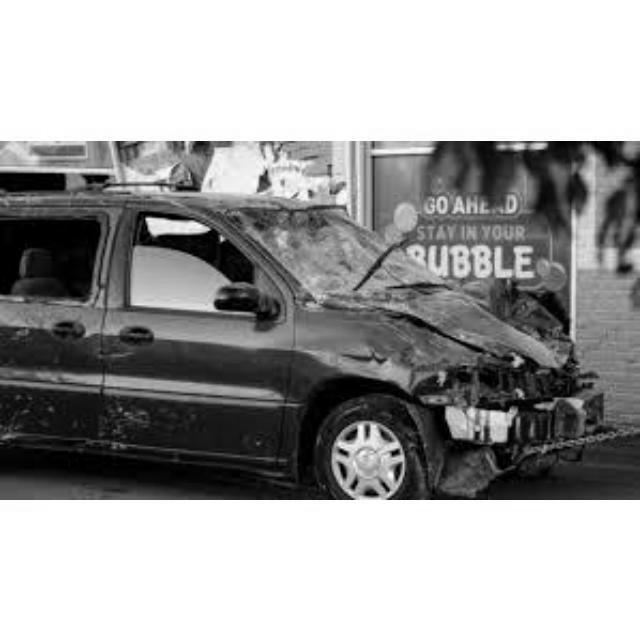Front-windscreen-damage: (259, 190, 413, 301)
bonnet-dent: (420, 276, 565, 357)
doorouter-dent: (106, 314, 281, 459), (5, 211, 92, 444)
fender-dent: (303, 314, 416, 386)
front-bumper-dent: (474, 370, 615, 453)
